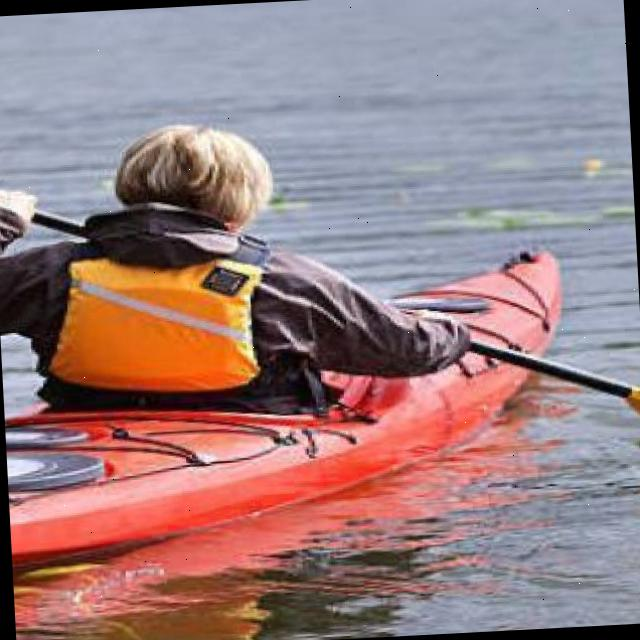kayak: (0, 152, 640, 565), (5, 232, 640, 564), (5, 227, 529, 566), (380, 252, 561, 355)
